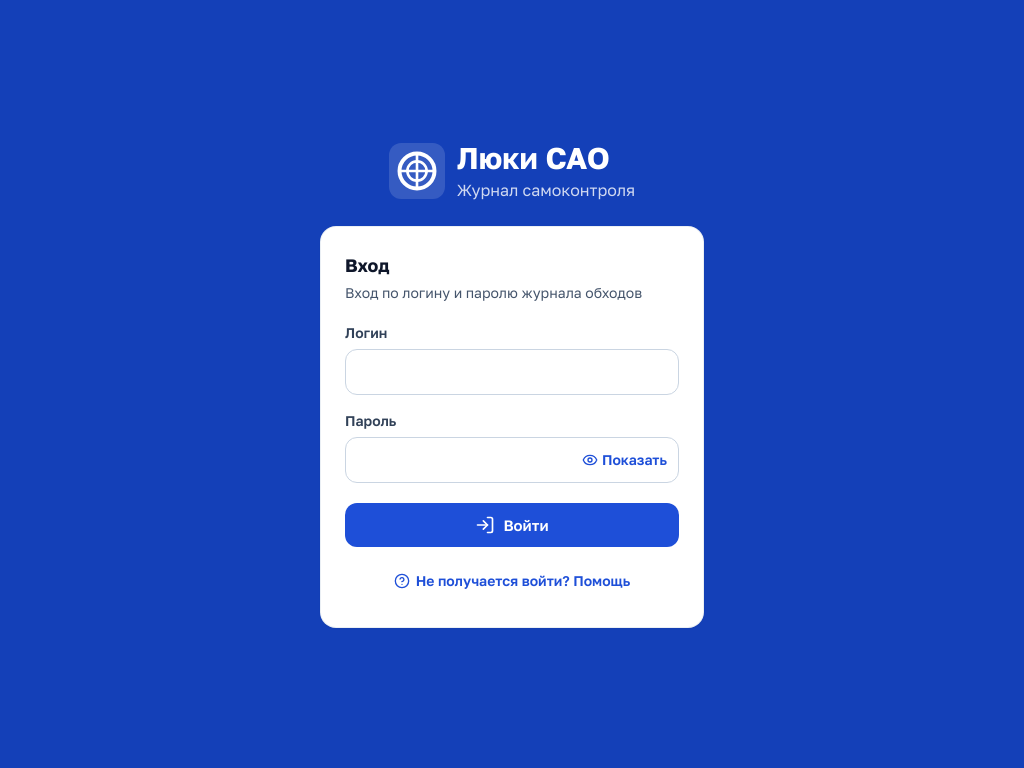
Test: LoginPage › неверный пароль — обычная ошибка на странице входа, без окна повторного входа
Type "petrov" into the field labelled "Логин" at (512, 372), box left=345, top=349, right=679, bottom=395
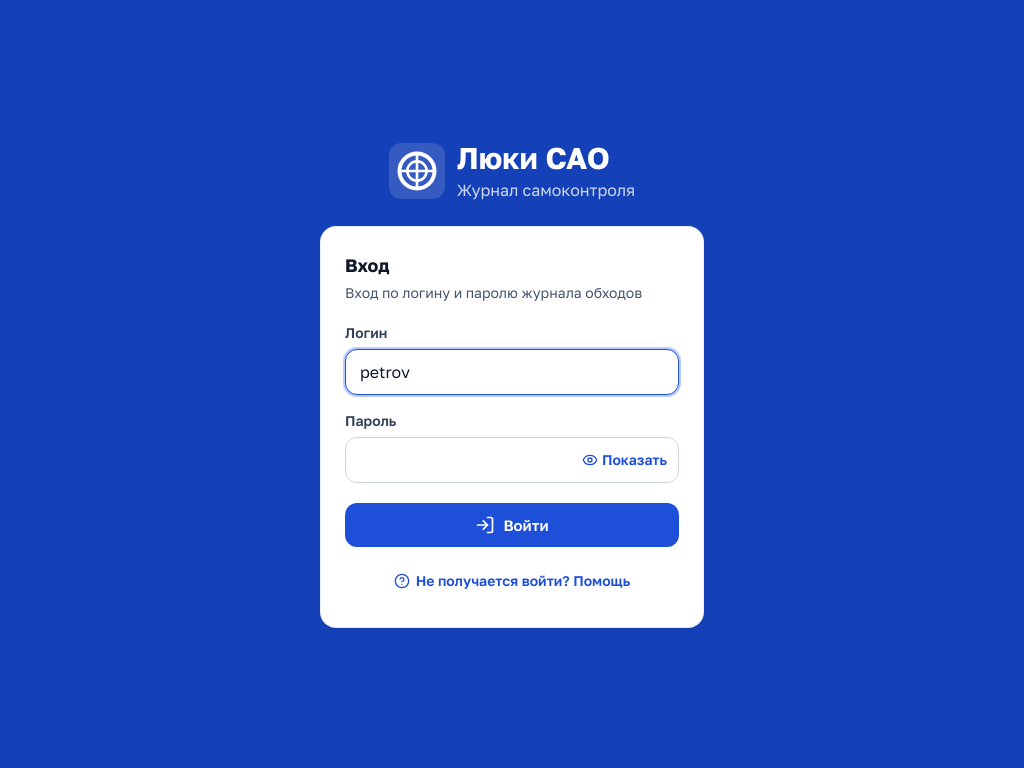
Type "wrong" into the password field labelled "Пароль" at (512, 460), box left=345, top=437, right=679, bottom=483
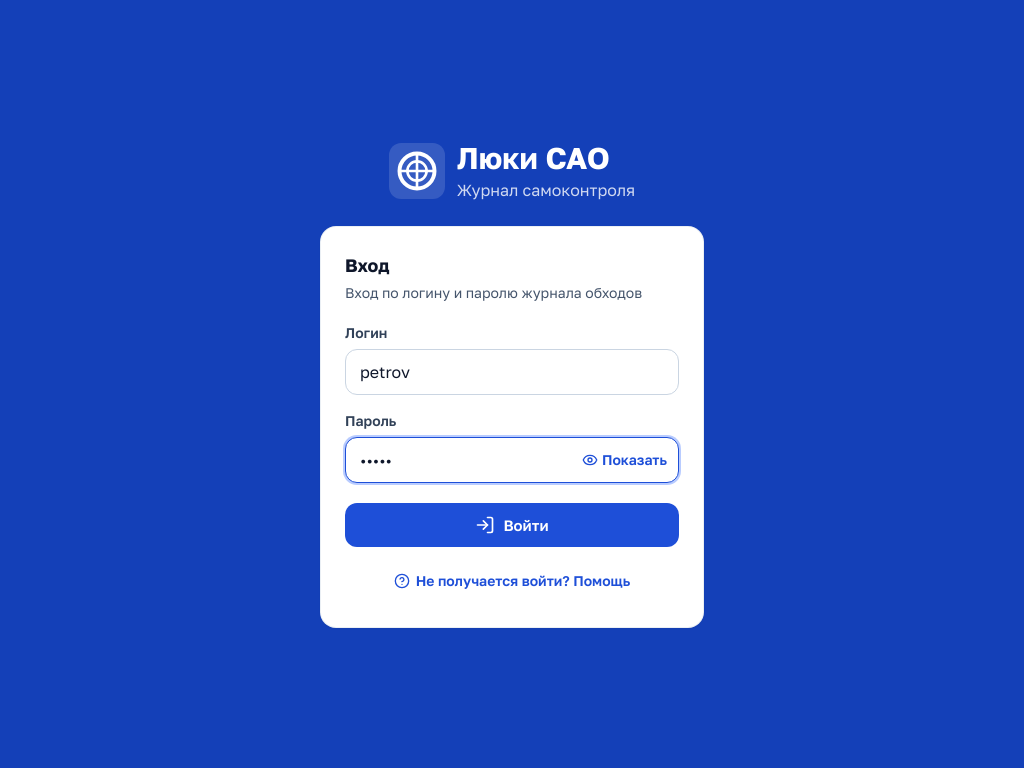
Click the button "Войти" at (512, 525), box left=345, top=503, right=679, bottom=547
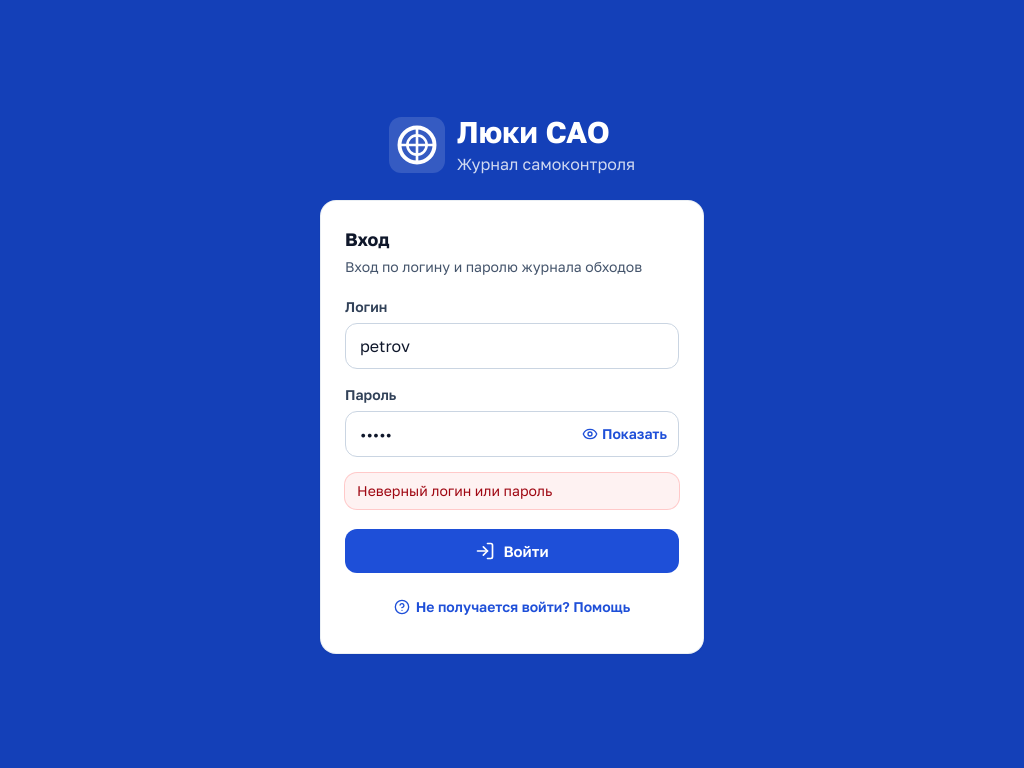
Check: the message reads "Неверный логин или пароль", box left=357, top=482, right=552, bottom=499
Type "secret" into the password field labelled "Пароль" at (512, 434), box left=345, top=411, right=679, bottom=457
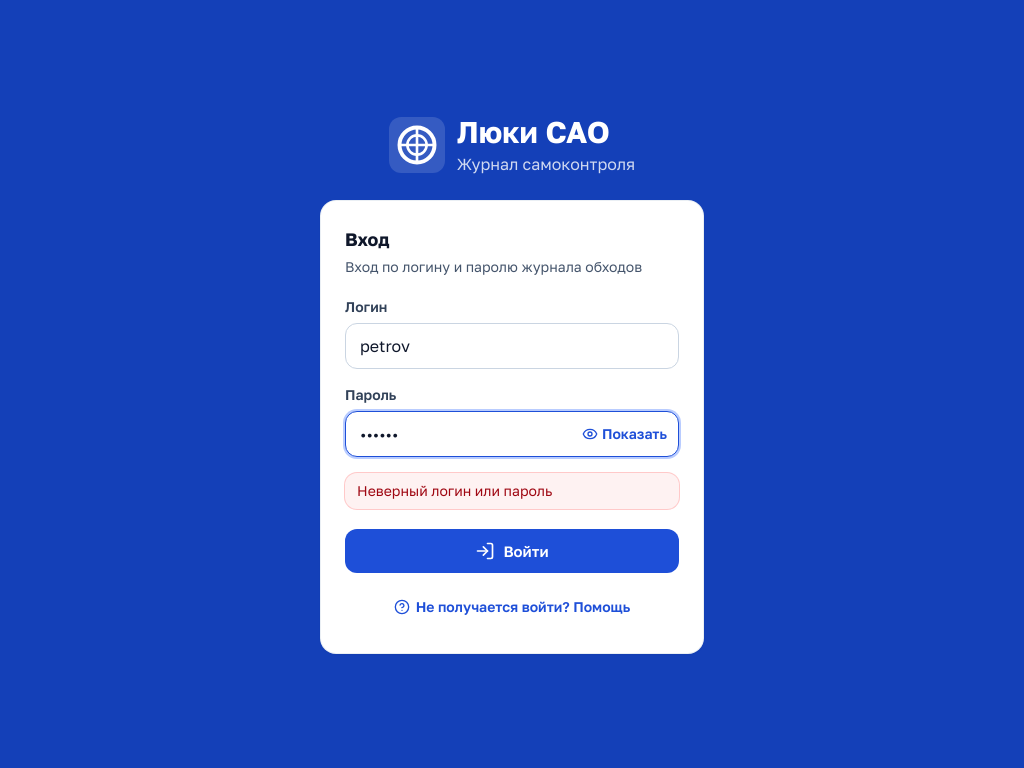
Click the button "Войти" at (512, 551), box left=345, top=529, right=679, bottom=573
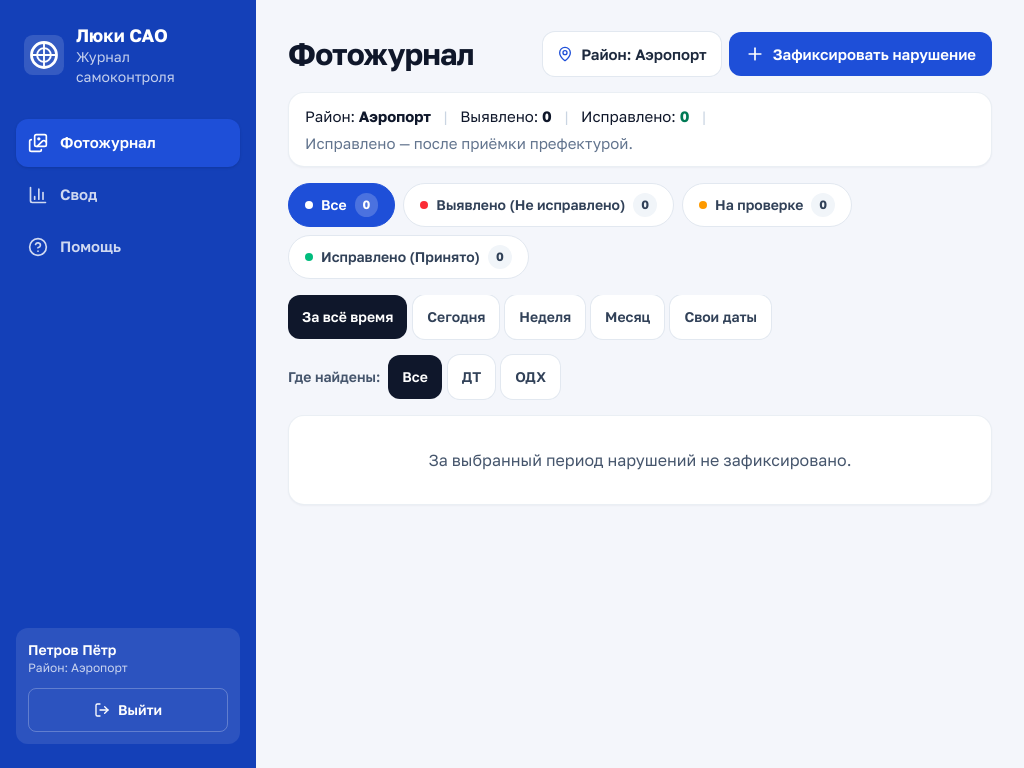
Check: the heading "Фотожурнал" is shown, box left=288, top=36, right=474, bottom=72
